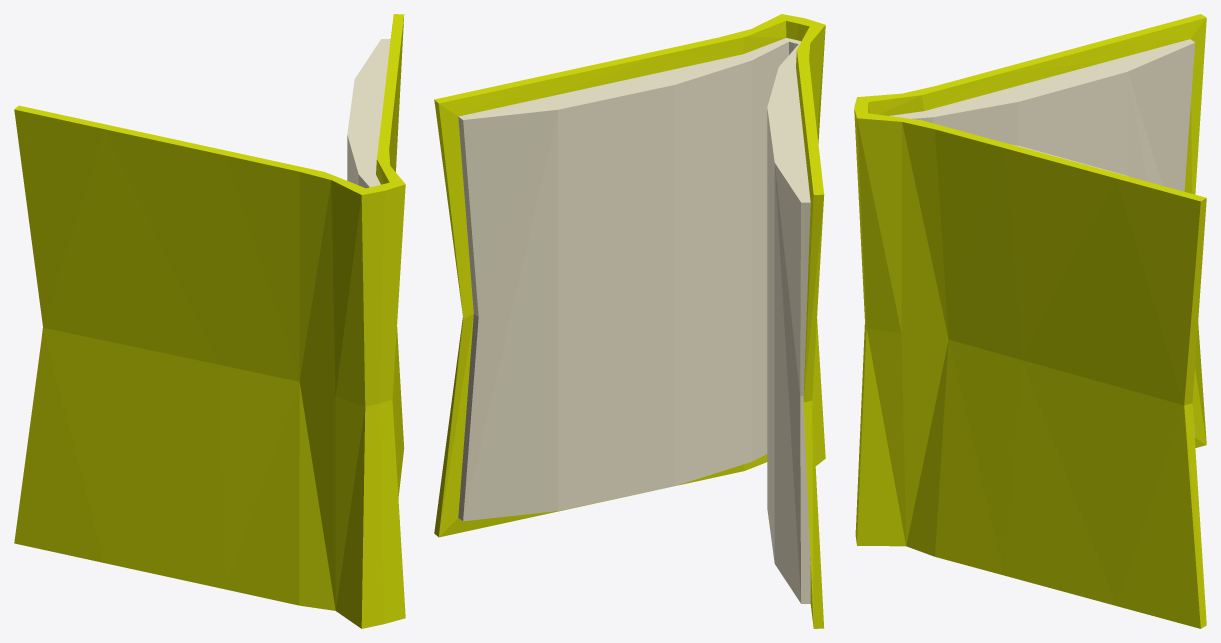
File: half_open_book_y.fbx
3 renders of one model, left to right at view 1: azimuth 30°, elevation 25°; view 2: azimuth 150°, elevation 25°; view 3: azimuth 270°, elevation 25°, orthographic.
Parts seen in each view (by area): view 1: Box001; view 2: Box001; view 3: Box001.
Boxes of the visible parts, left/top/right/bottom form: Box001: left=14, top=14, right=405, bottom=628; Box001: left=434, top=14, right=825, bottom=628; Box001: left=854, top=14, right=1206, bottom=628.
Bounding box in the file's own units: 63.95 × 68 × 50.83.
